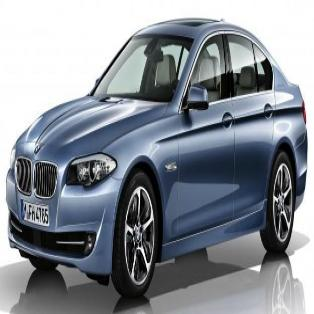Auto: (4, 14, 312, 308)
